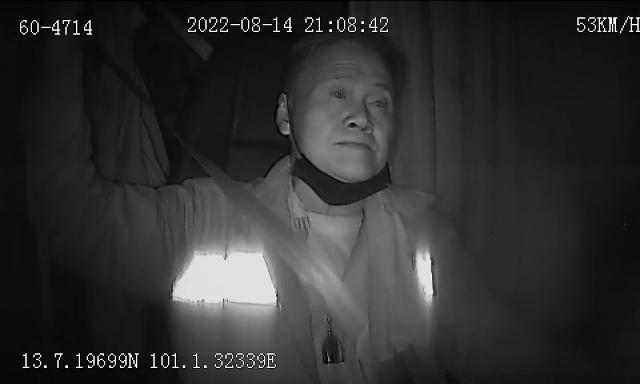SafeDriving: (360, 87, 394, 116), (323, 79, 355, 106)
Seatbelt: (211, 165, 371, 343)
